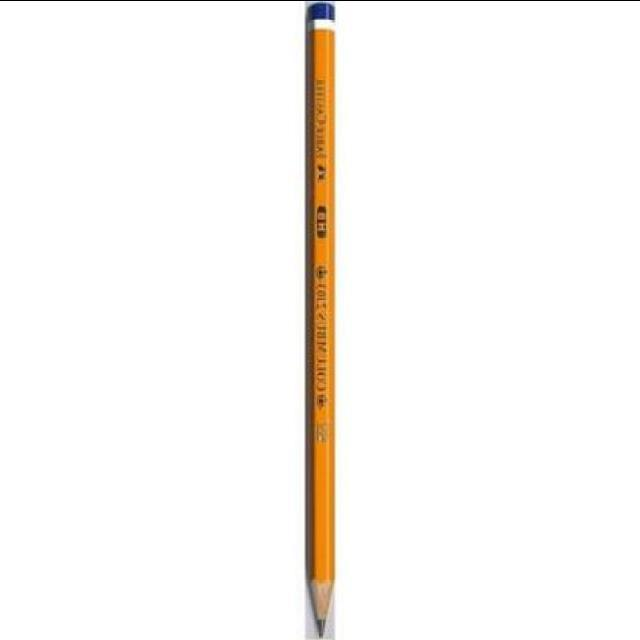pencil: (300, 560, 348, 638)
